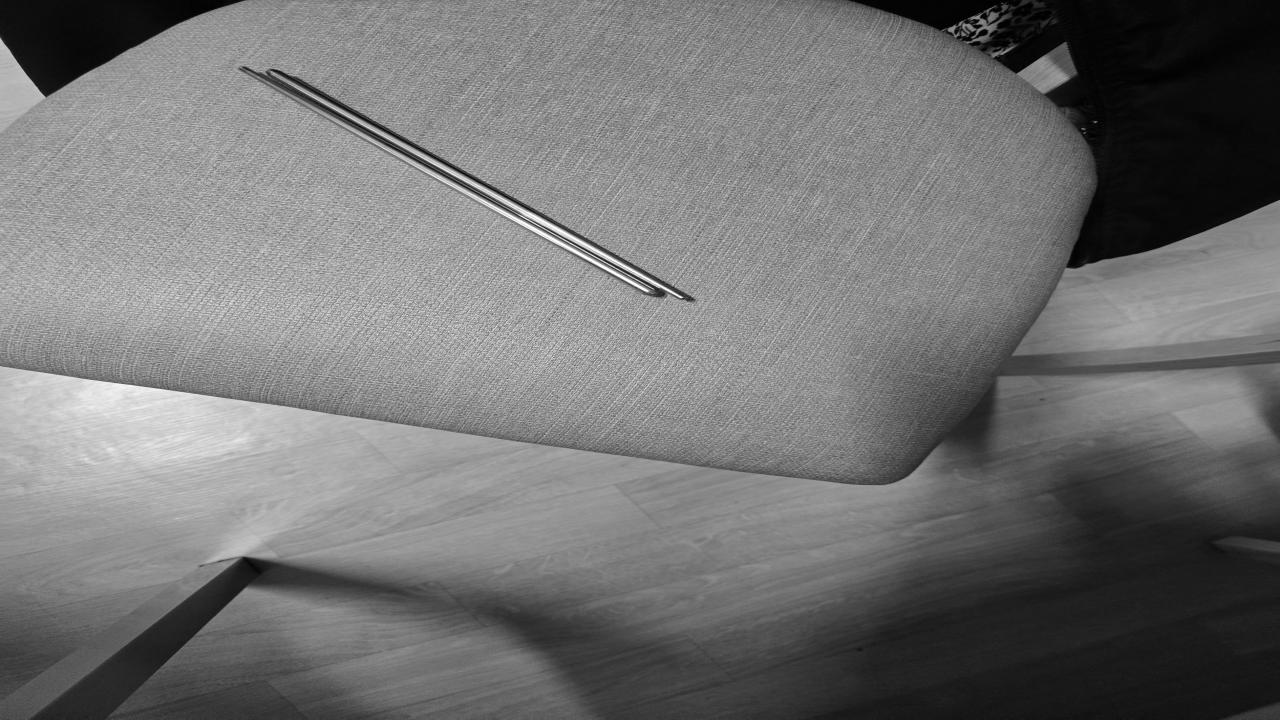chopstick: (247, 67, 685, 298)
